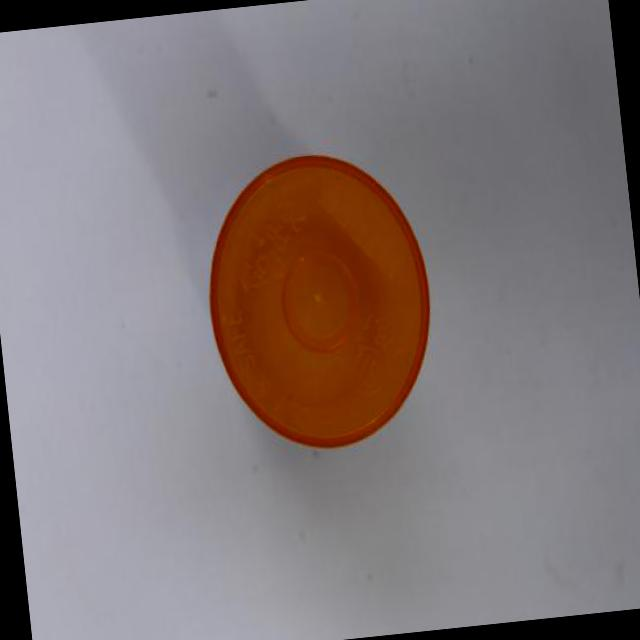Trash: (191, 143, 443, 460)
